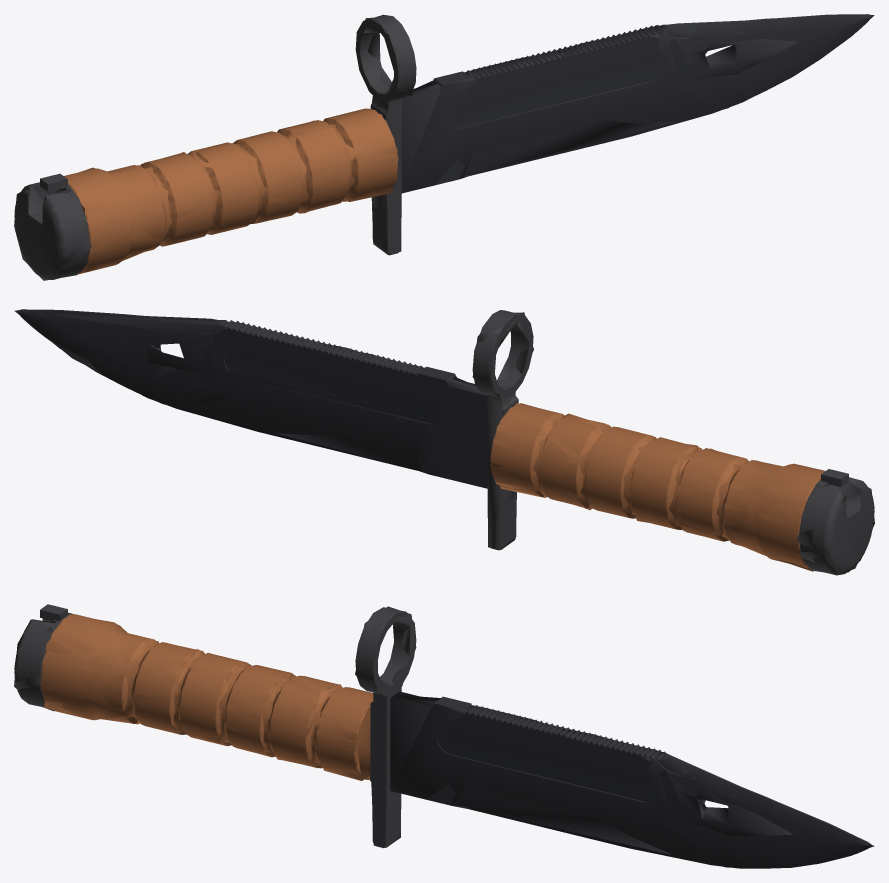
File: knife.glb
3 renders of one model, top to bottom at view 1: azimuth 30°, elevation 25°; view 2: azimuth 150°, elevation 25°; view 3: azimuth 330°, elevation 25°, orthographic.
Visible parts, largest first — view 1: perto_base, mundo_base, longe_base; view 2: perto_base, mundo_base, longe_base; view 3: perto_base, mundo_base, longe_base.
Part boxes in pixels (x1,y1,x2,y2): perto_base: [14, 14, 872, 279]; mundo_base: [15, 14, 873, 279]; longe_base: [14, 15, 874, 280]; perto_base: [17, 309, 874, 574]; mundo_base: [21, 309, 874, 575]; longe_base: [14, 310, 874, 574]; perto_base: [14, 605, 872, 868]; mundo_base: [14, 604, 872, 868]; longe_base: [14, 606, 874, 867].
Bounding box in the file's own units: 12.28 × 3.21 × 1.33.
